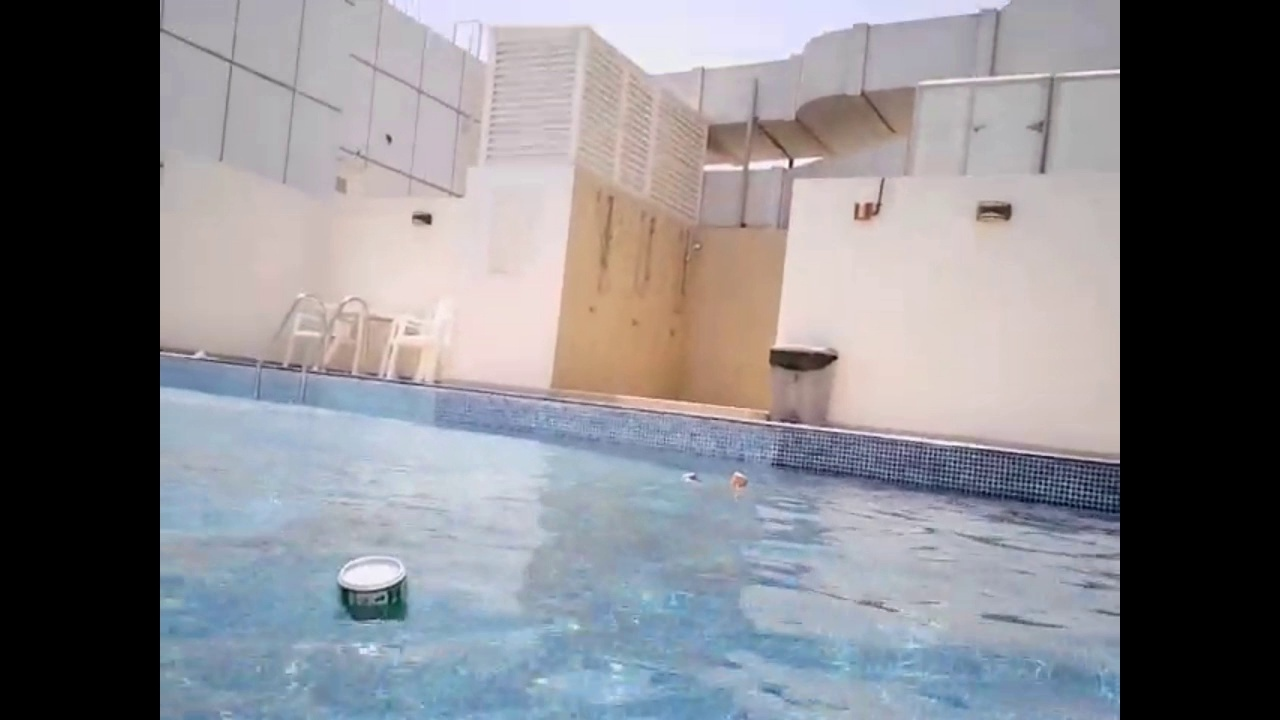debris: (331, 540, 417, 630), (723, 465, 753, 496), (678, 468, 697, 487)
